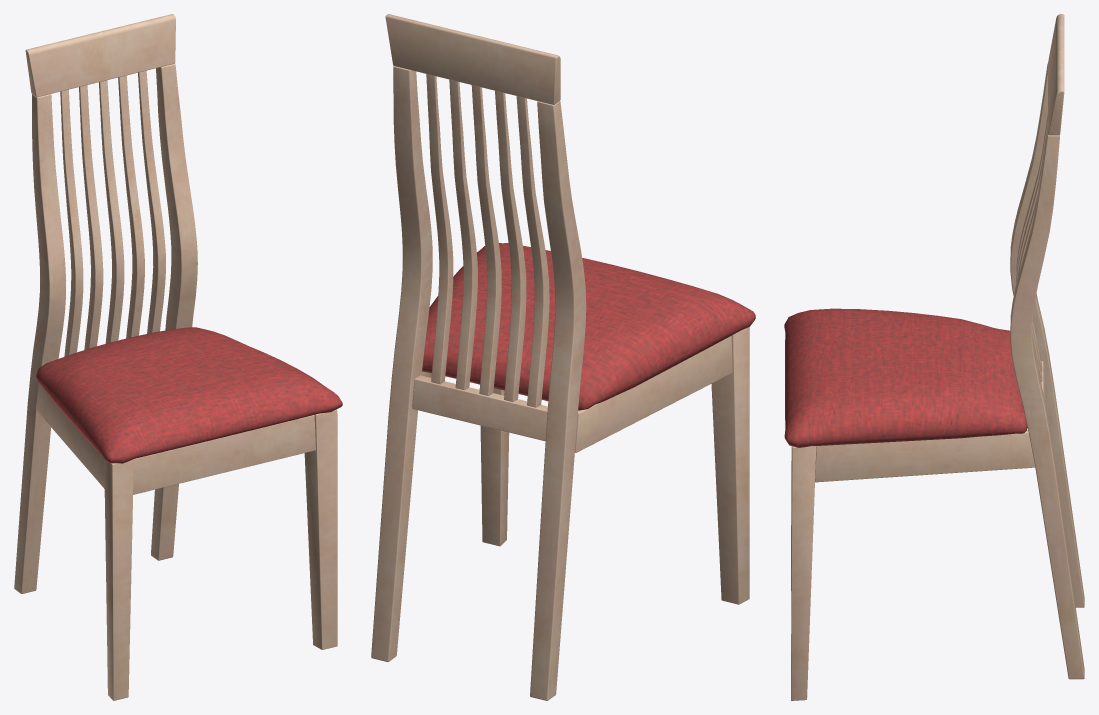
Rendered from B07K7LZVPT.glb.
3 renders of one model, left to right at view 1: azimuth 30°, elevation 25°; view 2: azimuth 150°, elevation 25°; view 3: azimuth 270°, elevation 25°, orthographic. The views are drawn at different scales.
Visible parts, largest first — view 1: B07K7LZVPT; view 2: B07K7LZVPT; view 3: B07K7LZVPT.
Part boxes in pixels (x1,y1,x2,y2): B07K7LZVPT: (14,14,342,700); B07K7LZVPT: (371,14,755,700); B07K7LZVPT: (784,14,1084,700).
Bounding box in the file's own units: 0.46 × 1.03 × 0.474.
Materials: 1 (1 with a texture image).
